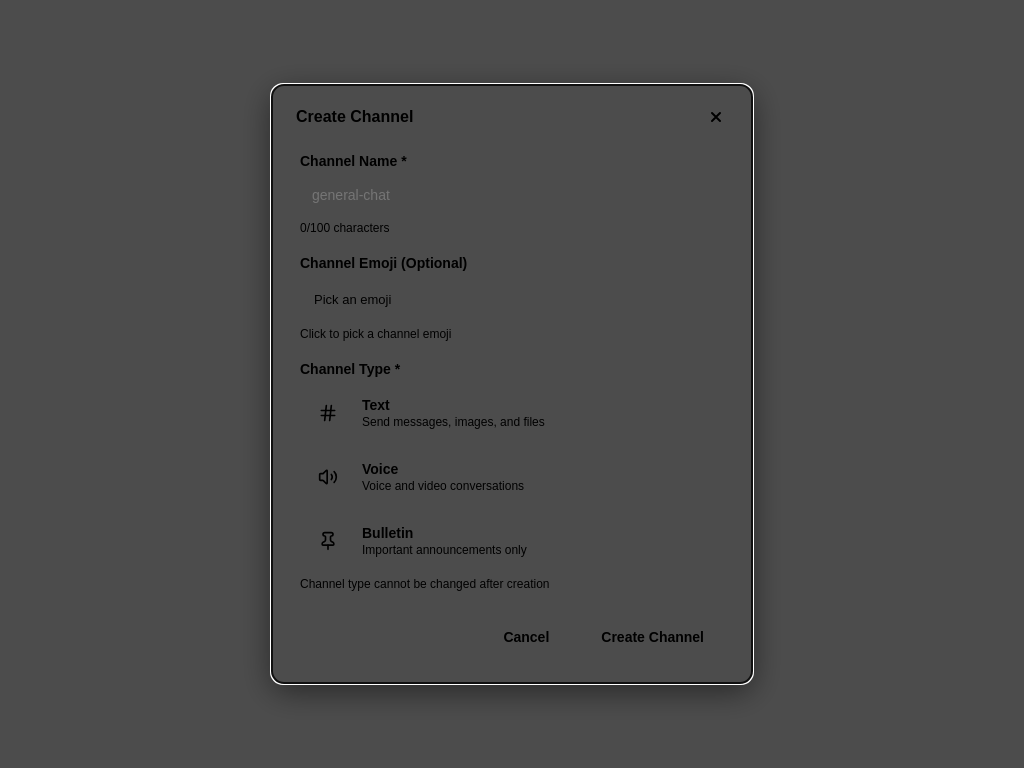
Test: CreateChannelModal › shows validation error for short name
Type "ab" into the field with placeholder "general-chat" at {"x": 512, "y": 195}, box 300,177 -> 724,213
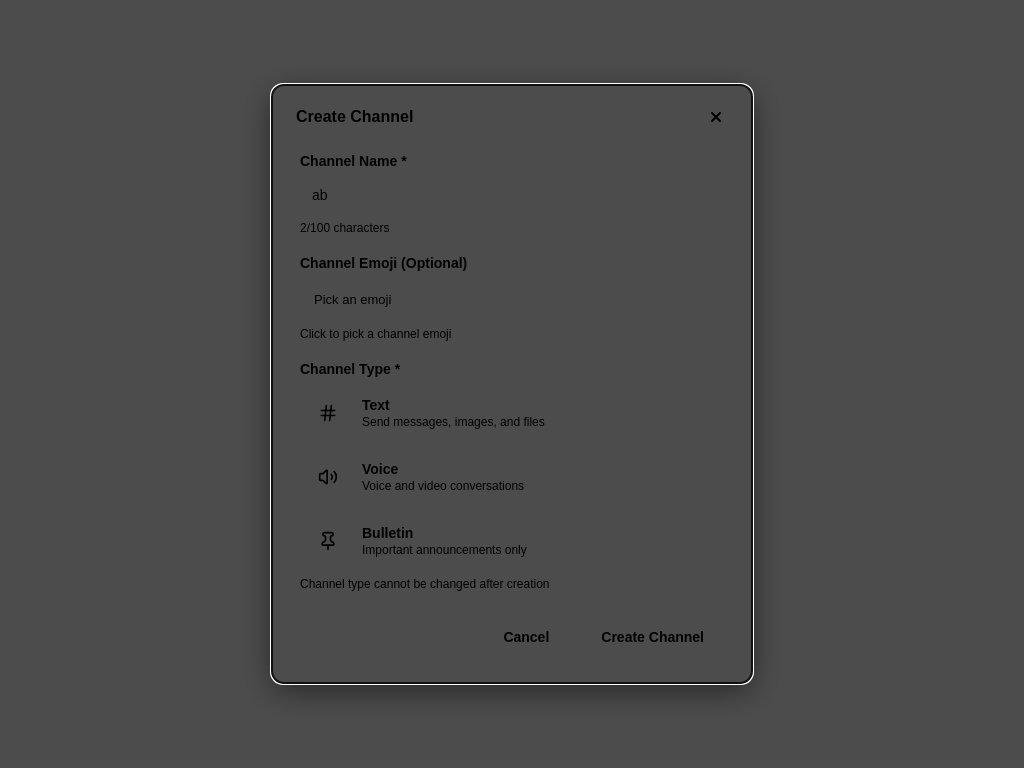
Click the button "Create Channel" at {"x": 653, "y": 637}, box 581,619 -> 724,655
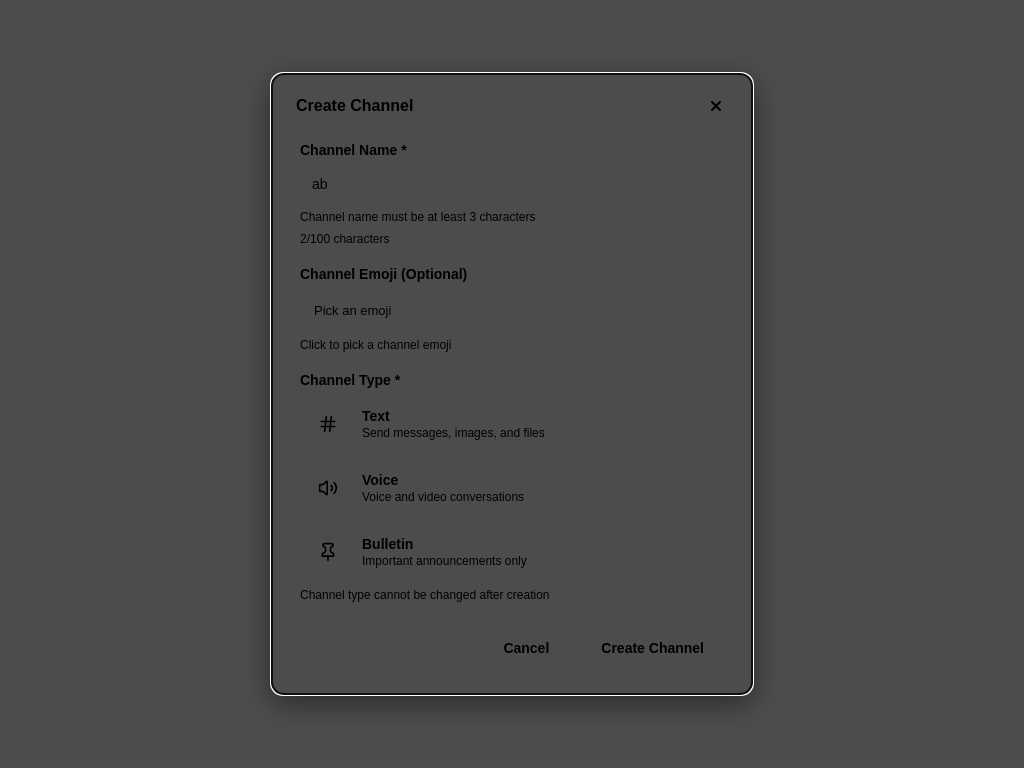
Expected: the text "Channel name must be at least 3 characters" is shown, 300,210 -> 536,224
